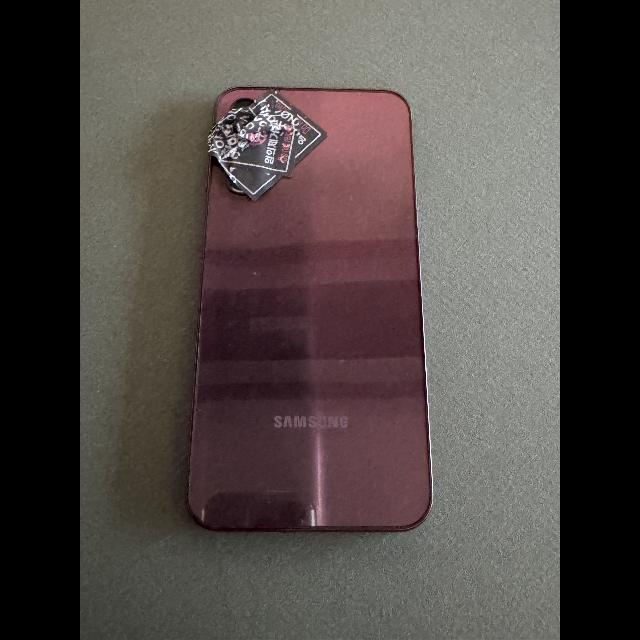lens: (229, 99, 253, 110)
phone: (188, 87, 432, 532)
sticker: (241, 90, 326, 163), (206, 109, 300, 175)
